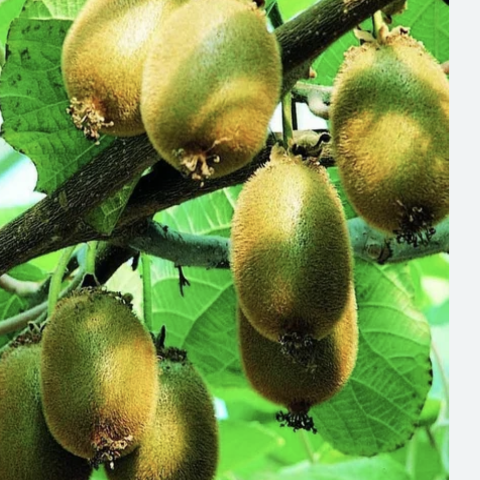kiwi: (312, 33, 479, 264), (211, 141, 370, 354), (138, 0, 313, 179), (25, 286, 169, 459)
